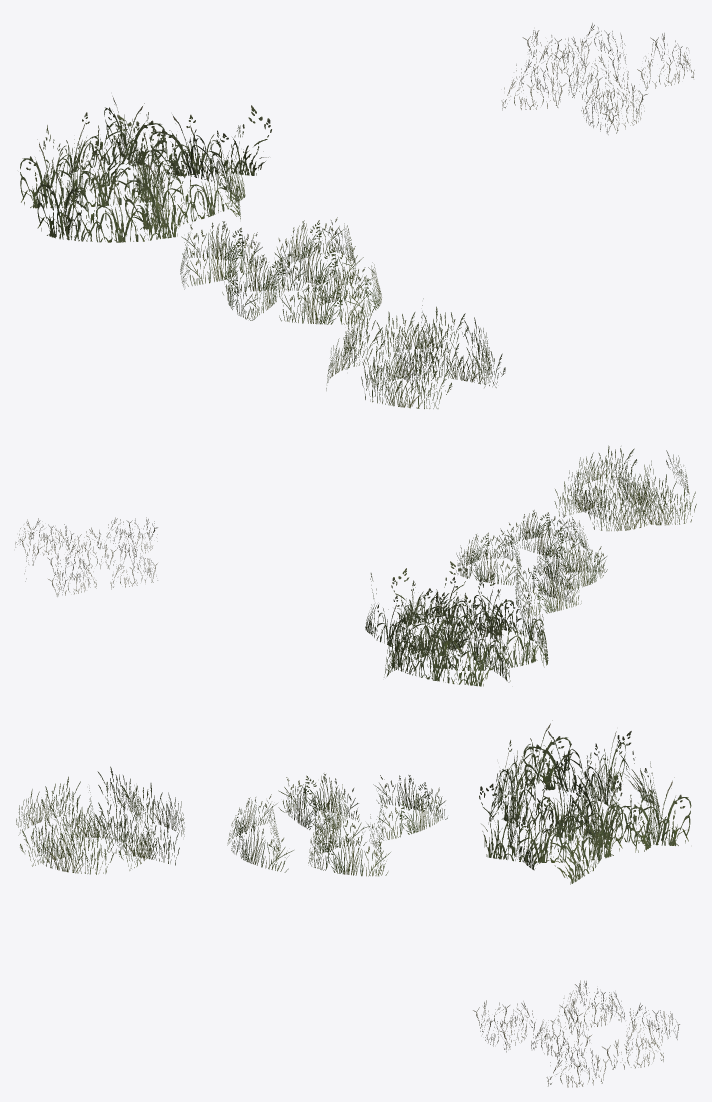
Rendered from meadow_grass.glb.
3 views of the same model, one above another, from view 1: azimuth 30°, elevation 25°; view 2: azimuth 150°, elevation 25°; view 3: azimuth 270°, elevation 25° (orthographic). The views are drawn at different scales.
Parts seen in each view (by area): view 1: Grass_Reeds_LOD0_GrassBase_0; view 2: Grass_Reeds_LOD0_GrassBase_0; view 3: Grass_Reeds_LOD0_GrassBase_0.
Boxes of the visible parts, bbox=[...] form: Grass_Reeds_LOD0_GrassBase_0: bbox=[20, 23, 694, 408]; Grass_Reeds_LOD0_GrassBase_0: bbox=[15, 445, 696, 686]; Grass_Reeds_LOD0_GrassBase_0: bbox=[16, 720, 691, 1087].
Bounding box in the file's own units: 3.92 × 0.4527 × 3.65.
1 material, 1 textured.
